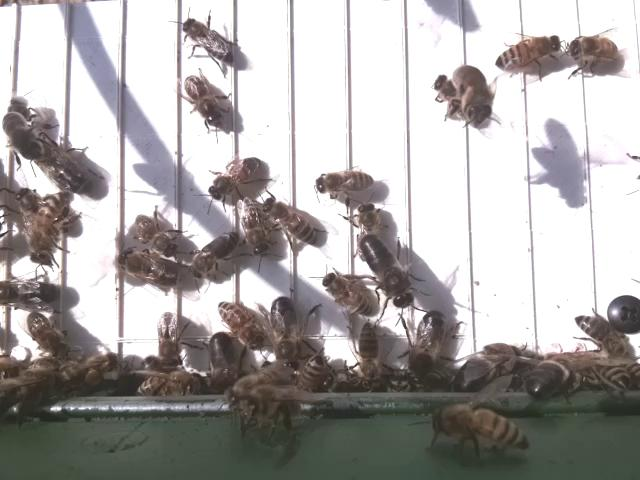Drone: (357, 230, 416, 310), (32, 141, 98, 197), (404, 307, 448, 384), (116, 250, 187, 293), (269, 292, 302, 374)
Worker: (29, 191, 75, 267), (493, 33, 563, 74), (318, 269, 376, 317), (186, 231, 241, 281), (26, 309, 76, 363), (179, 15, 234, 64), (205, 155, 261, 203), (181, 68, 225, 129), (573, 314, 626, 363), (269, 198, 321, 247), (217, 297, 264, 351), (564, 34, 623, 71), (352, 318, 385, 384), (312, 166, 375, 199), (133, 217, 184, 257), (241, 197, 273, 260), (152, 308, 185, 366)
